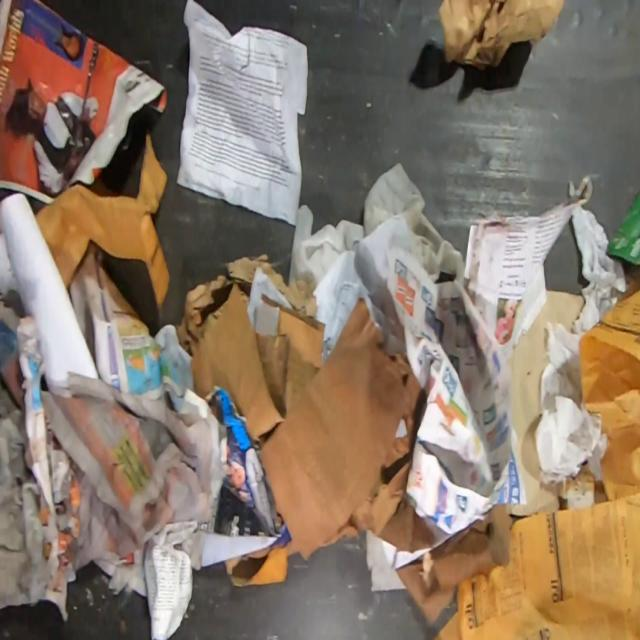cardboard: (260, 297, 437, 561), (190, 265, 326, 443), (506, 289, 585, 516), (394, 503, 519, 627), (438, 0, 564, 71), (604, 185, 640, 266)
